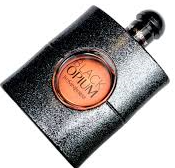ysl_black_opium: (3, 1, 170, 168)
